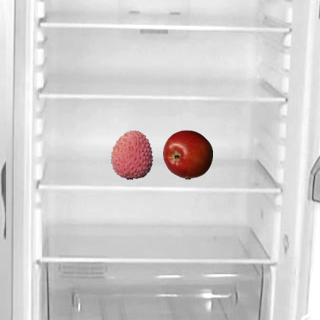Apple Braeburn: (162, 129, 212, 179)
Lychee: (106, 129, 156, 179)
